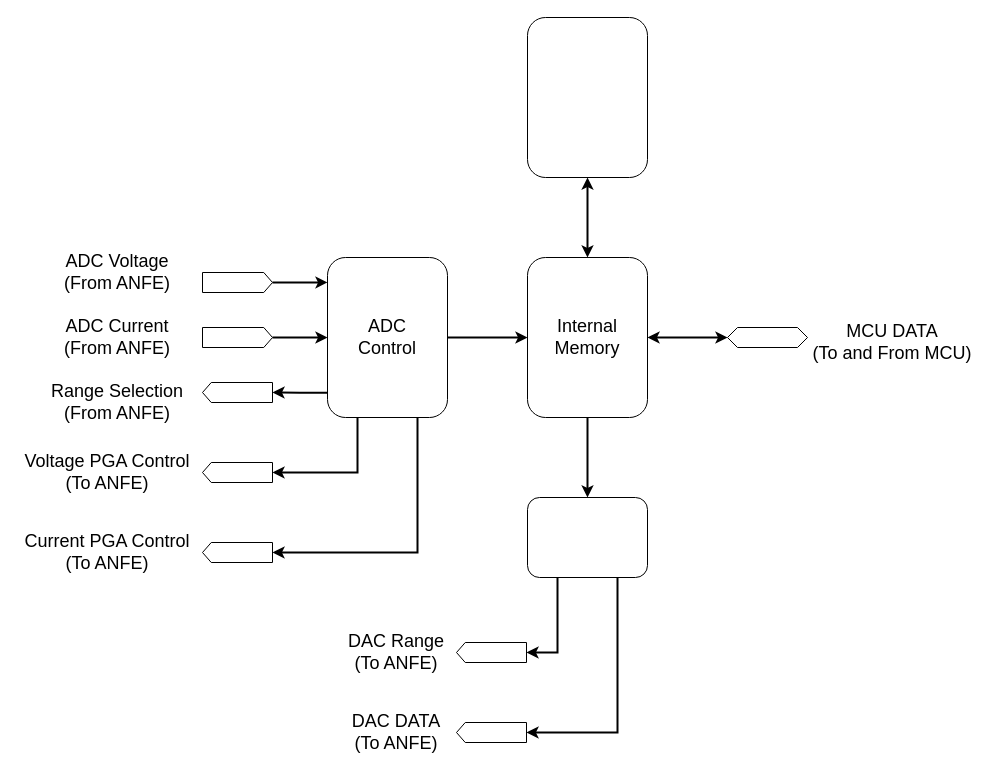
This 994x771 diagram has some shape labels left out. Here are the shapes that lost their labels. From the top down, the box of each, then its label:
(526, 16, 648, 178): External Memory
(526, 496, 648, 578): DAC Control
